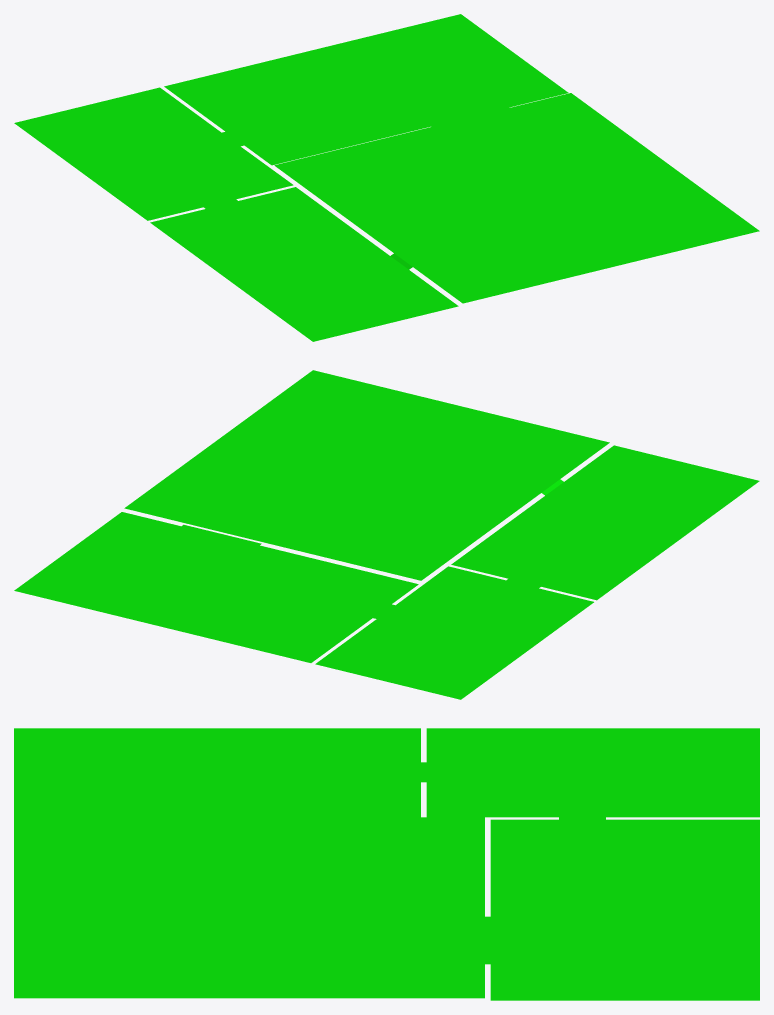
File: CasaAncianaTecho.fbx
3 views of the same model, one above another, from view 1: azimuth 30°, elevation 25°; view 2: azimuth 150°, elevation 25°; view 3: azimuth 270°, elevation 25° (orthographic). The views are drawn at different scales.
Visible parts, largest first — view 1: polySurface2636; view 2: polySurface2636; view 3: polySurface2636.
Boxes of the visible parts, x1=… form: polySurface2636: x1=14, y1=14, x2=759, y2=341; polySurface2636: x1=14, y1=370, x2=759, y2=699; polySurface2636: x1=14, y1=728, x2=759, y2=1000.
Bounding box in the file's own units: 17.13 × 0.0653 × 19.85.
